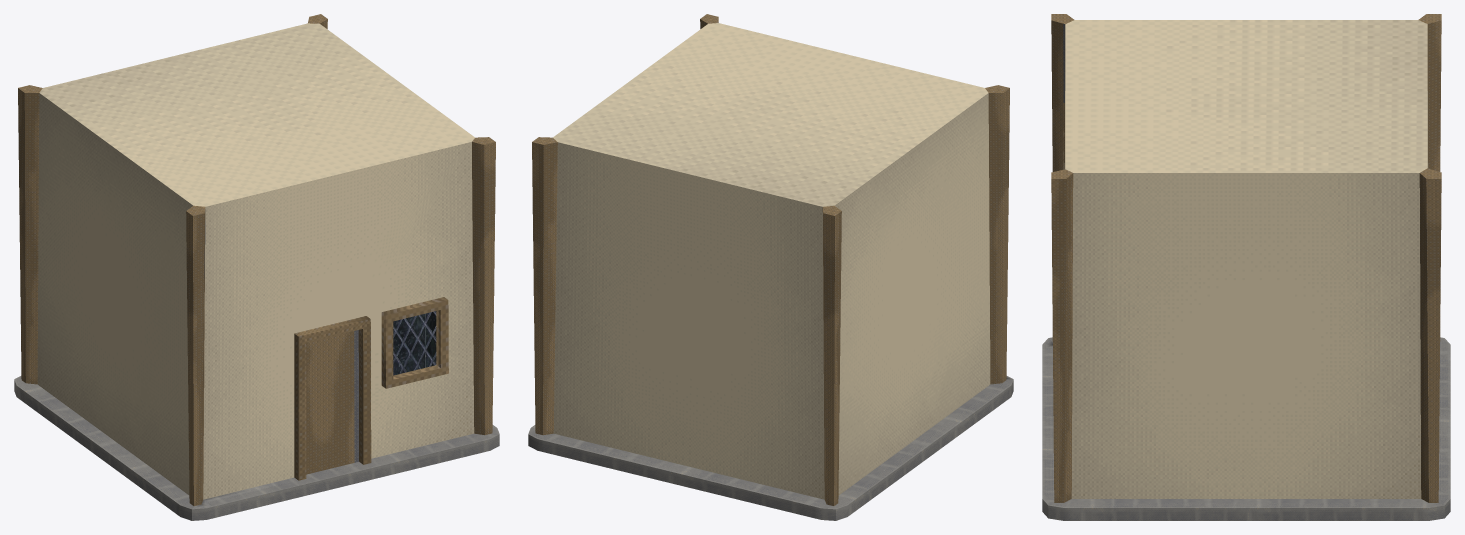
Rendered from house_square_base.fbx.
3 renders of one model, left to right at view 1: azimuth 30°, elevation 25°; view 2: azimuth 150°, elevation 25°; view 3: azimuth 270°, elevation 25°, orthographic. The views are drawn at different scales.
Parts seen in each view (by area): view 1: square_base; view 2: square_base; view 3: square_base.
Part boxes in pixels (x1,y1,x2,y2): square_base: [14, 14, 499, 520]; square_base: [528, 14, 1013, 520]; square_base: [1042, 14, 1450, 520].
Bounding box in the file's own units: 16.01 × 14.64 × 16.01.
Materials: 2 (2 with a texture image).
